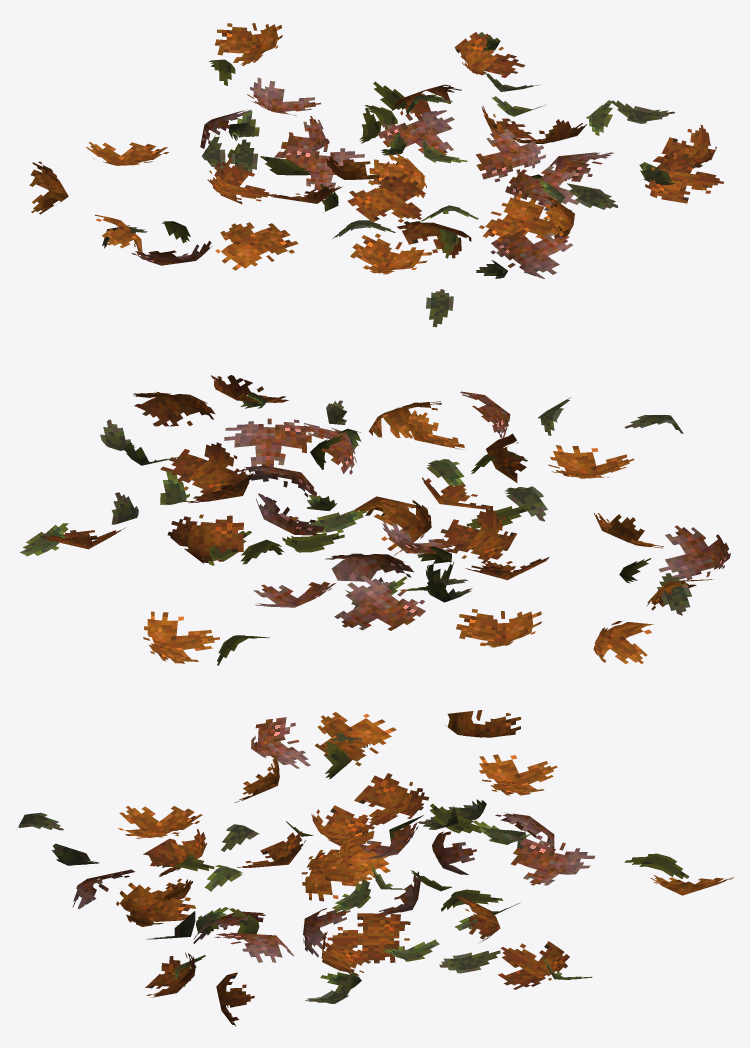
Rendered from GroundLeaves2.fbx.
3 views of the same model, one above another, from view 1: azimuth 30°, elevation 25°; view 2: azimuth 150°, elevation 25°; view 3: azimuth 270°, elevation 25° (orthographic). The views are drawn at different scales.
Parts seen in each view (by area): view 1: GroundLeaves2; view 2: GroundLeaves2; view 3: GroundLeaves2.
Boxes of the visible parts, left/top/right/bottom form: GroundLeaves2: left=29, top=23, right=723, bottom=327; GroundLeaves2: left=20, top=375, right=730, bottom=665; GroundLeaves2: left=18, top=710, right=733, bottom=1026.
Size of the model in its own units: 1.15 by 1.15 by 0.091.
